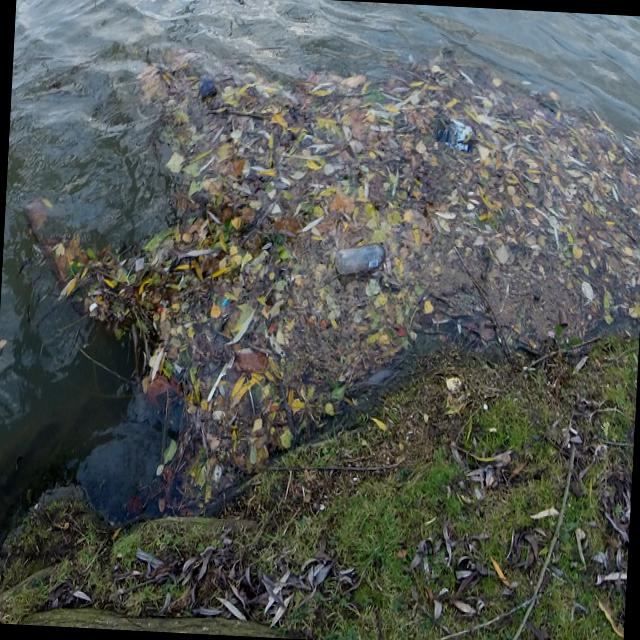Recycle: (332, 242, 392, 280)
Trash: (430, 105, 482, 158), (198, 74, 222, 105)
